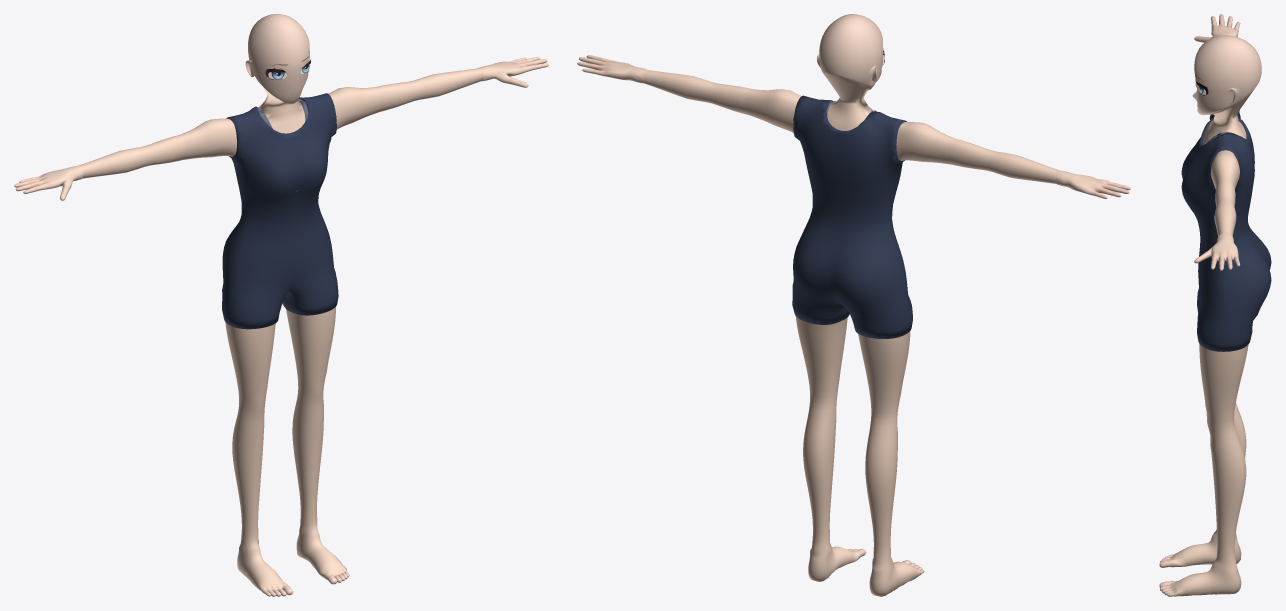
The model's file is eve-r033.glb.
3 renders of one model, left to right at view 1: azimuth 30°, elevation 25°; view 2: azimuth 150°, elevation 25°; view 3: azimuth 270°, elevation 25°, orthographic. The views are drawn at different scales.
Parts seen in each view (by area): view 1: Eve_Skin, Eve_Outfit_Basic; view 2: Eve_Skin, Eve_Outfit_Basic; view 3: Eve_Skin, Eve_Outfit_Basic.
Part boxes in pixels (x1,y1,x2,y2): Eve_Skin: (14, 14, 548, 596); Eve_Outfit_Basic: (222, 93, 338, 329); Eve_Skin: (577, 14, 1130, 596); Eve_Outfit_Basic: (792, 95, 912, 338); Eve_Skin: (1159, 14, 1261, 596); Eve_Outfit_Basic: (1181, 112, 1271, 351).
Bounding box in the file's own units: 1.62 × 1.59 × 0.2997.
17 materials, 14 textured.
